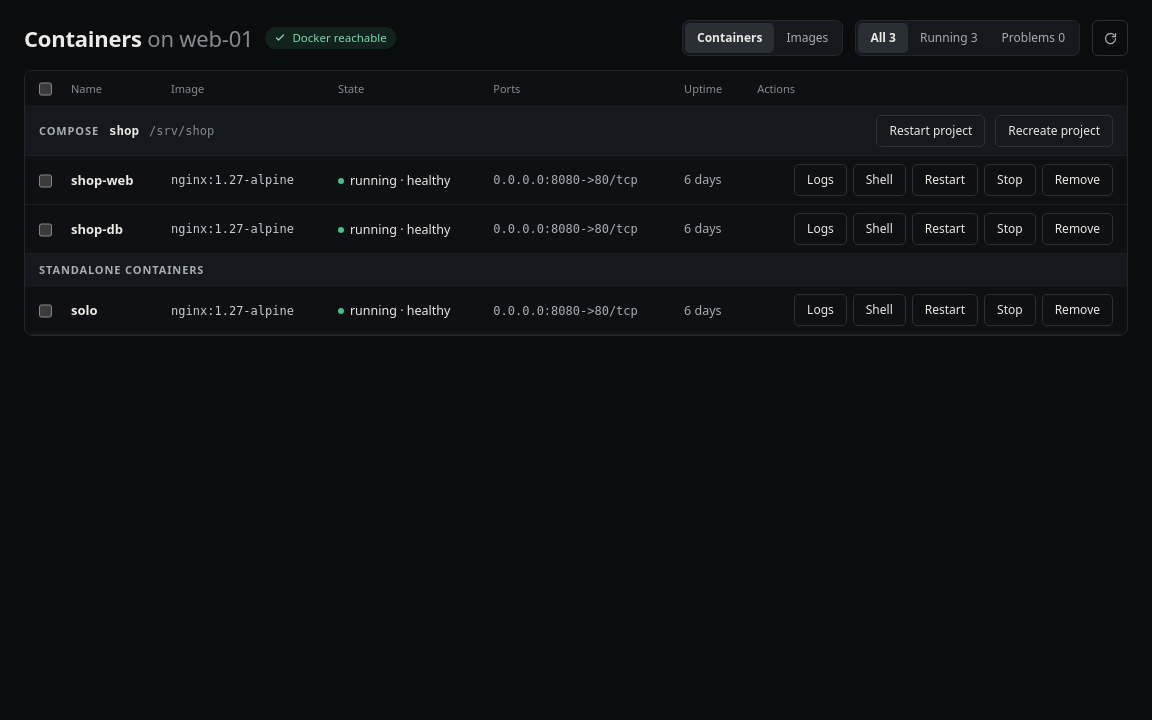
it: DockerWorkspace removal and compose › groups compose containers and restarts the whole project after confirmation
Expected: the text "Docker reachable" is shown, [266,27,396,49]
Expected: the text "/srv/shop" is shown, [149,123,214,139]
Click the button with aria-label "Restart project shop". click: coordinates (931, 131)
box: [876,115,985,147]
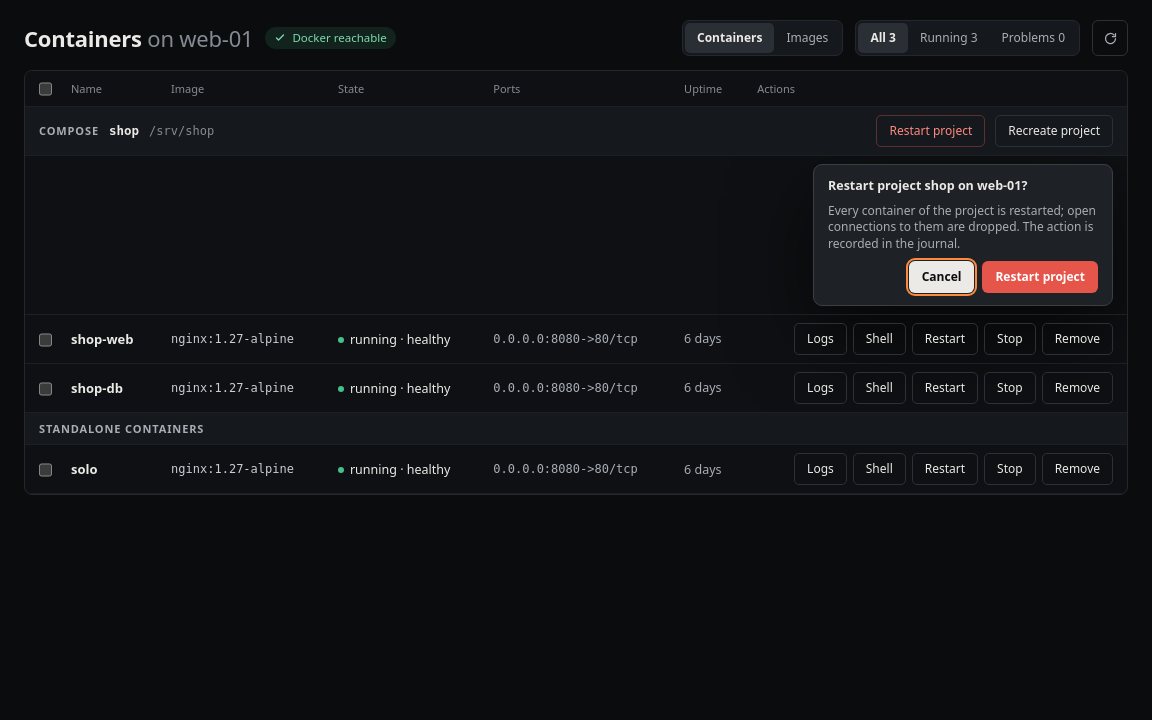
Expected: the dialog shows "Restart project shop on web-01?", [828,177,1027,194]
Click the button "Restart project" below "The action is recorded in the journal.". click: coordinates (1040, 277)
box: [982,261,1098,293]
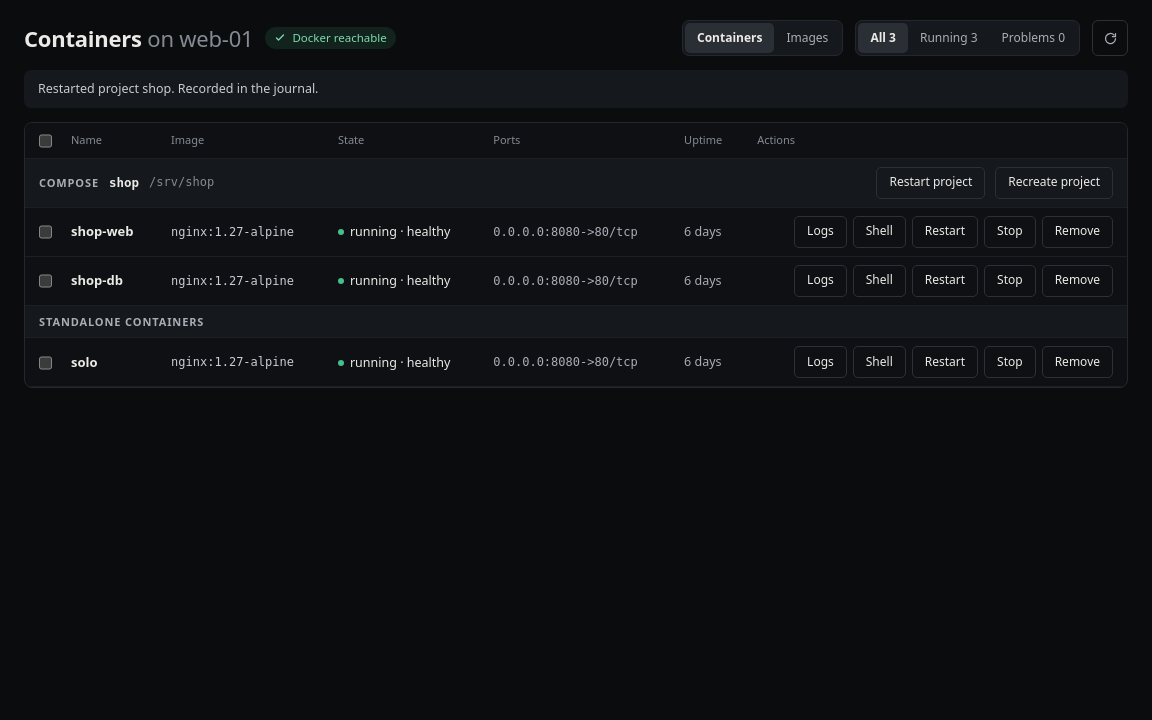
Expected: the text "Restarted project shop. Recorded in the journal." is shown, [24,70,1128,108]
